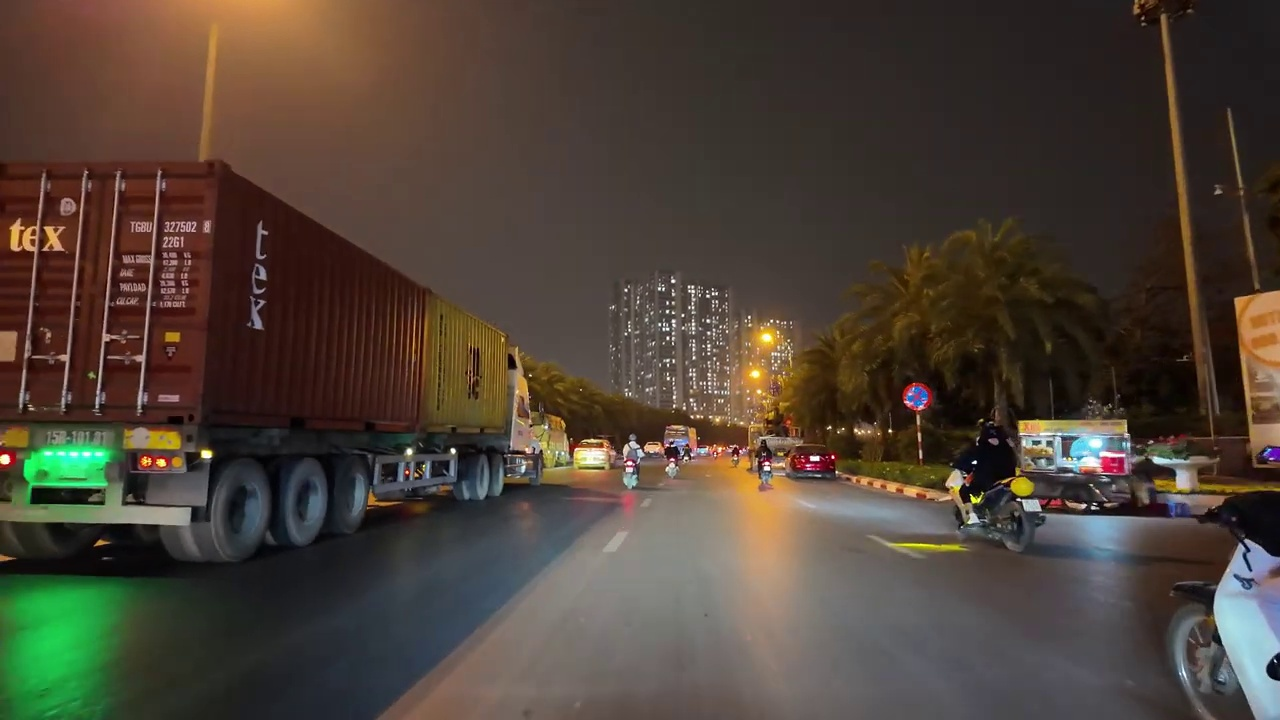acesa: (752, 327, 782, 351)
